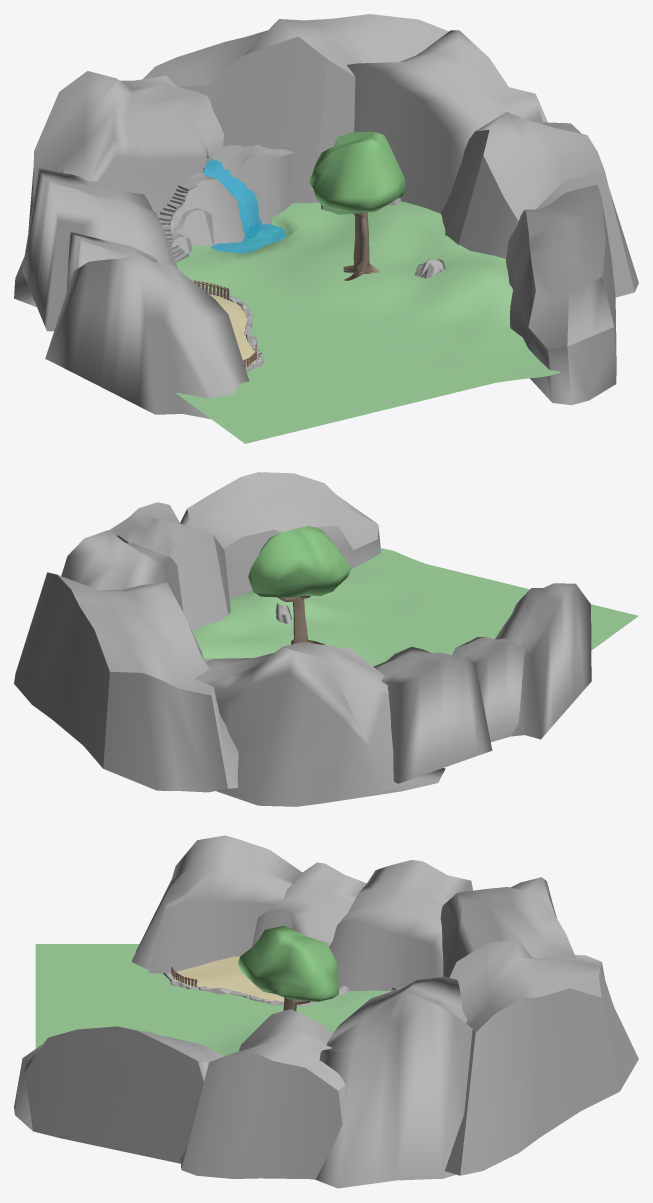
The model's file is CritterWorld.fbx.
3 views of the same model, one above another, from view 1: azimuth 30°, elevation 25°; view 2: azimuth 150°, elevation 25°; view 3: azimuth 270°, elevation 25° (orthographic). The views are drawn at different scales.
Parts seen in each view (by area): view 1: tree:pPlane1, tree:polySurface12, tree:polySurface16, tree:polySurface9, tree:polySurface13, tree:polySurface11, tree:polySurface10, tree:polySurface14, tree:pinkTree_Lean:pinkTree_Lean:pCube31, tree:tree:pCube1, tree:polySurface15, pinkTree_Lean:pinkTree_Lean:pCube34 (+3 smaller); view 2: tree:polySurface12, tree:polySurface13, tree:pPlane1, tree:polySurface9, tree:polySurface14, tree:polySurface16, tree:polySurface10, tree:tree:pCube1, tree:polySurface11, tree:polySurface15; view 3: tree:polySurface12, tree:polySurface11, tree:polySurface9, tree:polySurface10, tree:pPlane1, tree:polySurface16, tree:polySurface14, tree:polySurface13, tree:tree:pCube1, tree:polySurface15, pPlane2.
Part boxes in pixels (x1,y1,x2,y2): tree:pPlane1: (176,201,560,443); tree:polySurface12: (143,14,448,203); tree:polySurface16: (45,254,249,419); tree:polySurface9: (506,184,616,405); tree:polySurface13: (14,71,224,306); tree:polySurface11: (347,30,547,213); tree:polySurface10: (441,112,638,297); tree:polySurface14: (22,168,178,331); tree:pinkTree_Lean:pinkTree_Lean:pCube31: (164,145,401,253); tree:tree:pCube1: (309,131,405,280); tree:polySurface15: (67,232,157,290); pinkTree_Lean:pinkTree_Lean:pCube34: (203,158,262,238); tree:polySurface12: (14,572,238,792); tree:polySurface13: (194,642,445,806); tree:pPlane1: (192,548,638,666); tree:polySurface9: (180,472,381,598); tree:polySurface14: (373,646,492,783); tree:polySurface16: (495,583,591,739); tree:polySurface10: (109,502,230,629); tree:tree:pCube1: (248,526,351,644); tree:polySurface11: (61,530,183,611); tree:polySurface15: (452,637,524,742); tree:polySurface12: (445,938,638,1175); tree:polySurface11: (315,976,472,1188); tree:polySurface9: (14,1026,224,1163); tree:polySurface10: (180,1009,345,1179); tree:pPlane1: (35,944,391,1055); tree:polySurface16: (132,835,302,973); tree:polySurface14: (329,860,472,991); tree:polySurface13: (440,877,575,977); tree:tree:pCube1: (238,925,338,1010); tree:polySurface15: (252,862,366,946); pPlane2: (170,956,284,1001).
Bounding box in the file's own units: 2860 × 905 × 3117.
